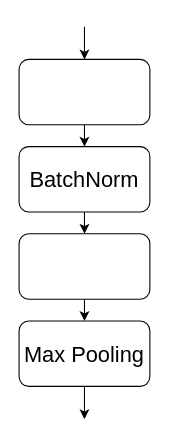
The diagram is 169 pixels wide and 447 high, and some of its shapes have lost their labels. Here are the shapes that lost their labels. From the top down, the box of each, then its label:
(18, 58, 150, 125): 3x3 Conv
(18, 233, 150, 299): relu
